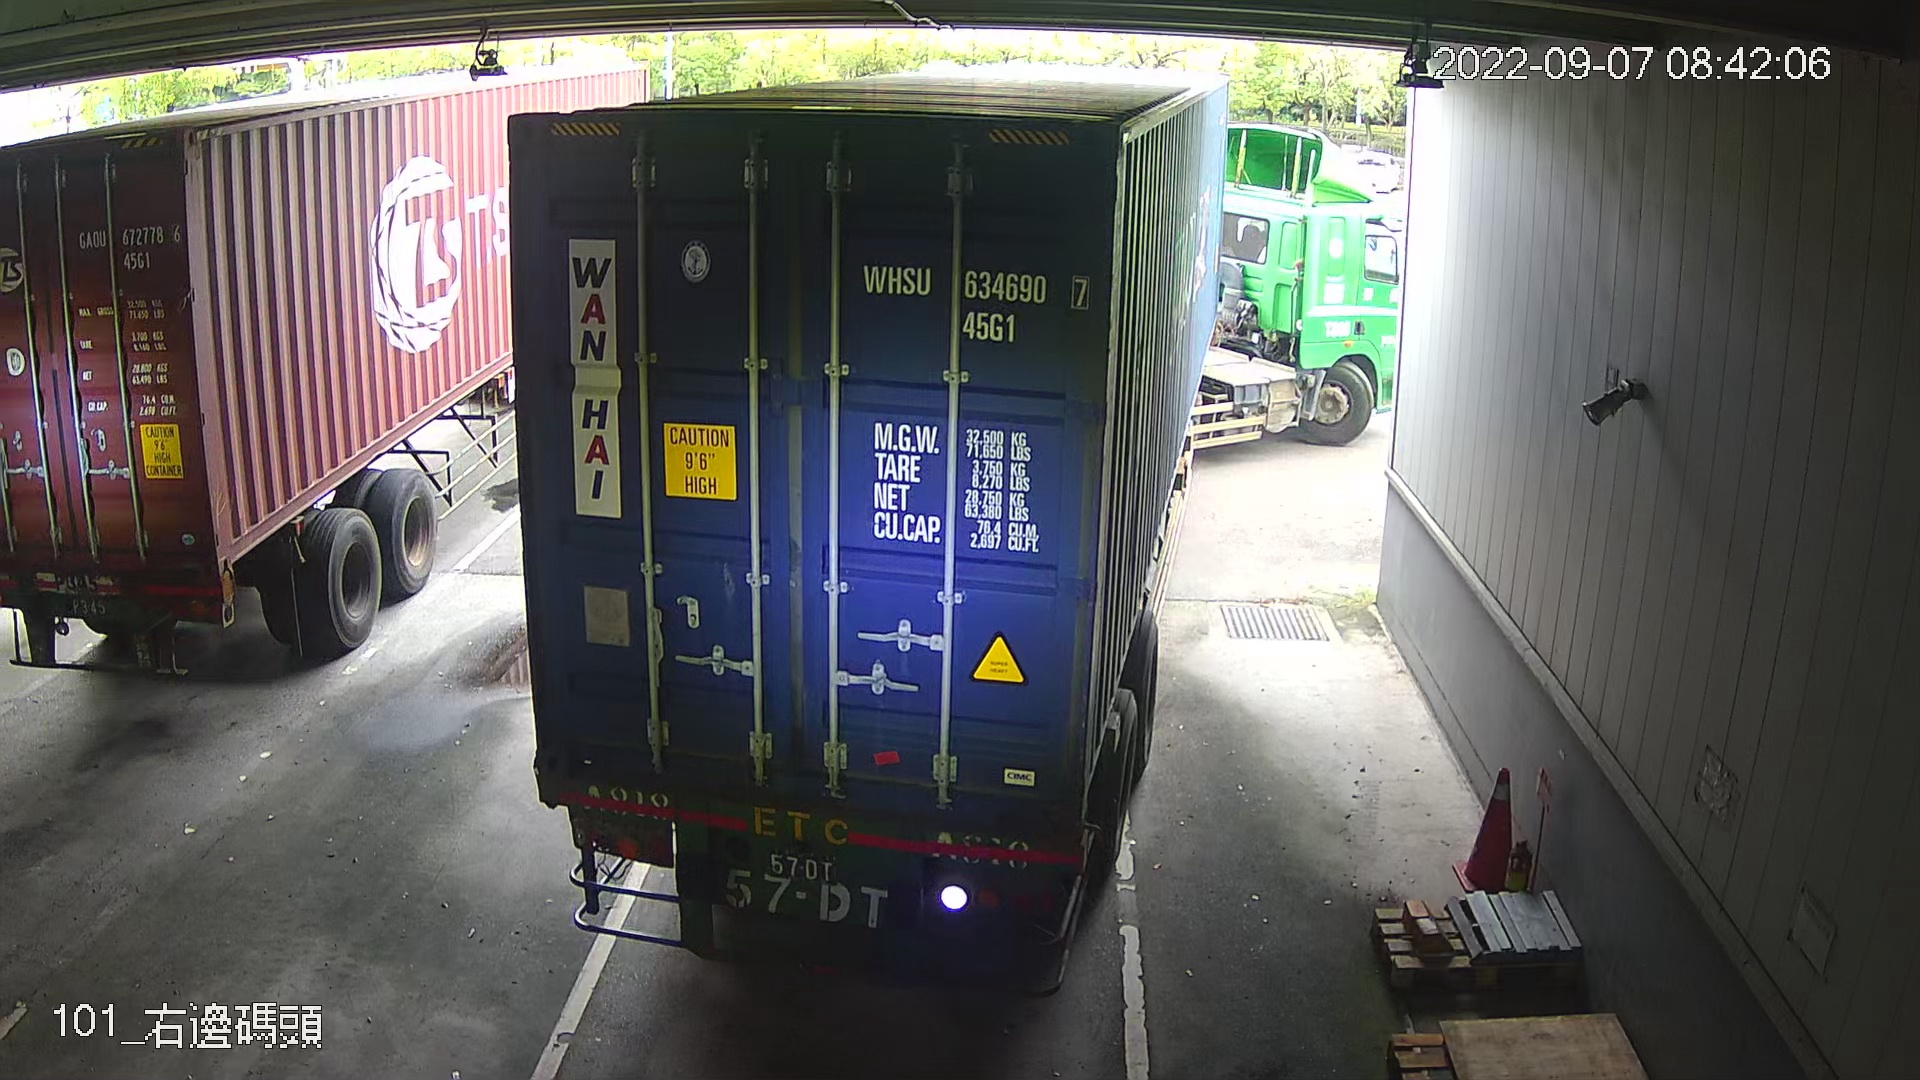container: (855, 251, 1097, 347)
